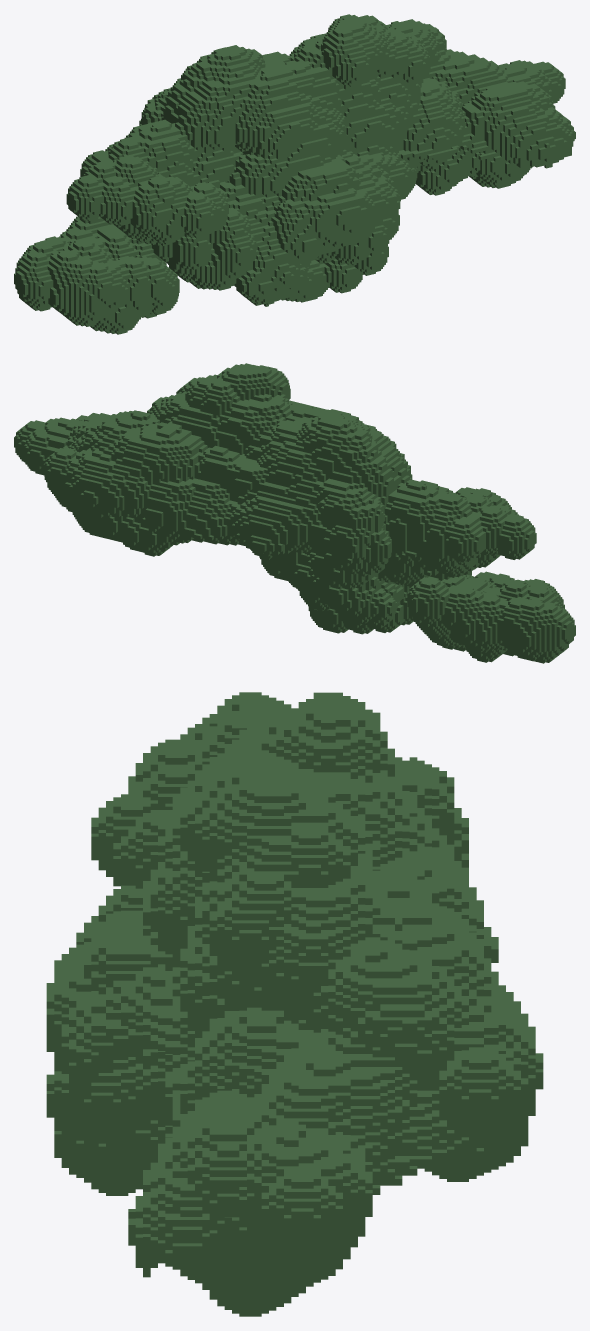
File: forest1.1-60.obj
3 views of the same model, one above another, from view 1: azimuth 30°, elevation 25°; view 2: azimuth 150°, elevation 25°; view 3: azimuth 270°, elevation 25° (orthographic). The views are drawn at different scales.
Size of the model in its own units: 17 by 7.1 by 6.7.
Materials: 1 (1 with a texture image).
